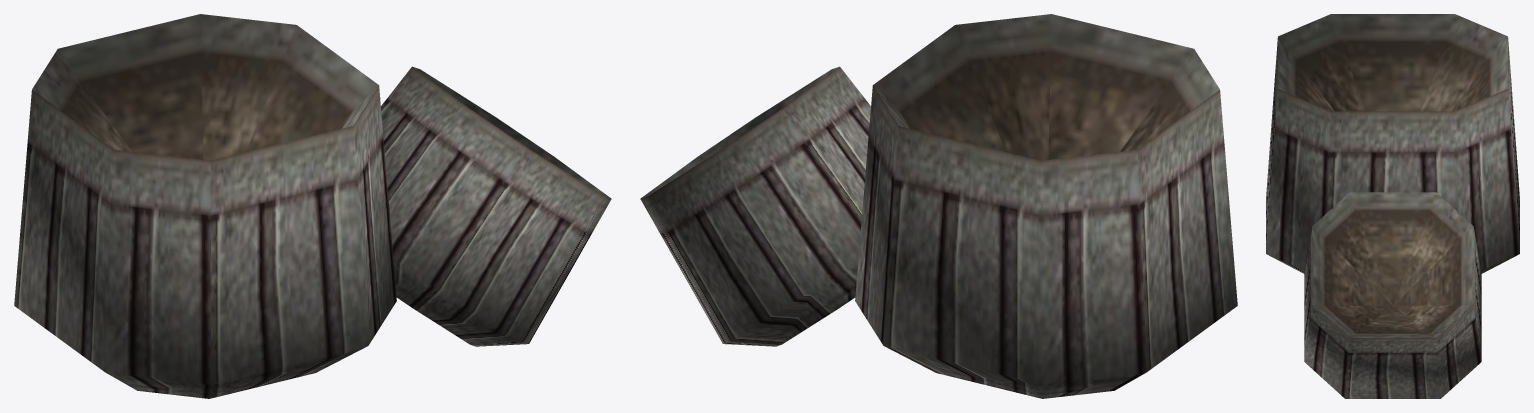
Rendered from oas_kara_obj03.glb.
3 views of the same model, side by side, from view 1: azimuth 30°, elevation 25°; view 2: azimuth 150°, elevation 25°; view 3: azimuth 270°, elevation 25° (orthographic). The views are drawn at different scales.
Visible parts, largest first — view 1: oas_kara_obj03; view 2: oas_kara_obj03; view 3: oas_kara_obj03.
Boxes of the visible parts, box(x1,y1,x2,y2) form: oas_kara_obj03: box(14, 14, 611, 398); oas_kara_obj03: box(640, 14, 1237, 398); oas_kara_obj03: box(1266, 14, 1519, 398).
Bounding box in the file's own units: 0.9396 × 0.5225 × 0.5241.
1 material, 1 textured.
